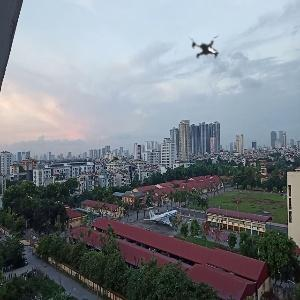drone: (172, 19, 239, 86)
